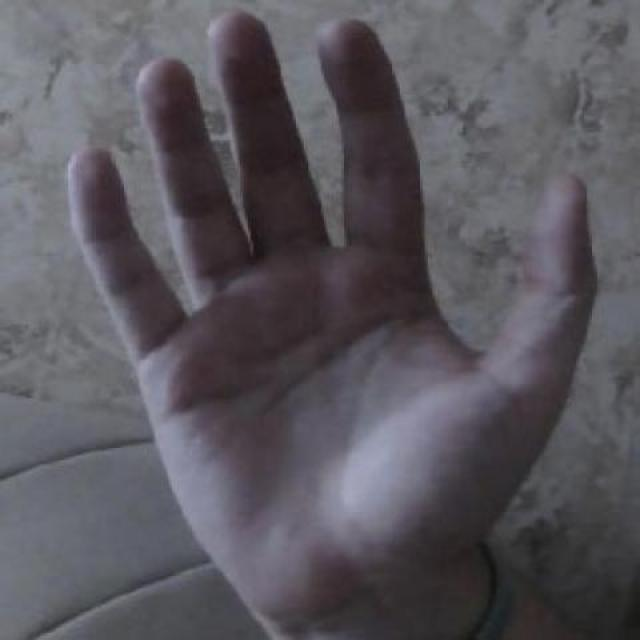Open Hand: (62, 5, 602, 640)
